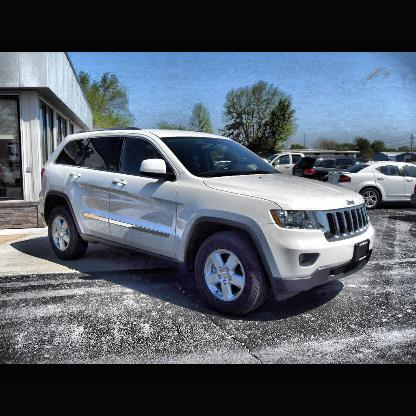Jeep Grand Cherokee SUV 2012: (41, 132, 376, 309)
